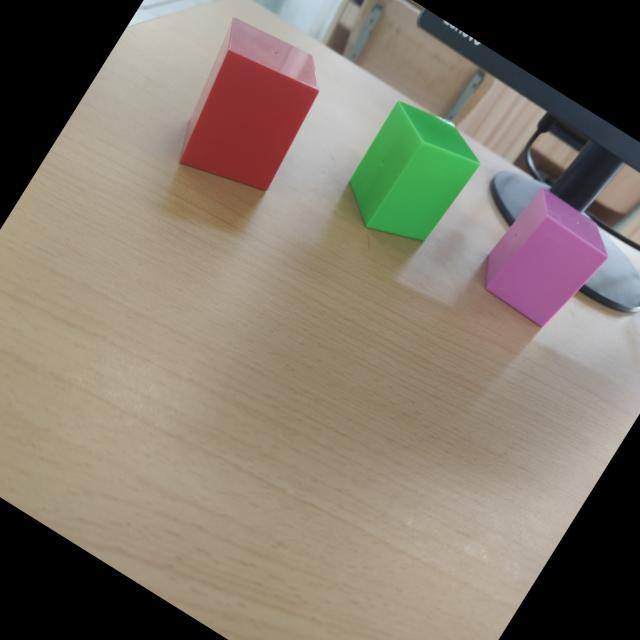green: (347, 101, 479, 243)
pink: (482, 189, 607, 329)
red: (176, 17, 318, 193)
